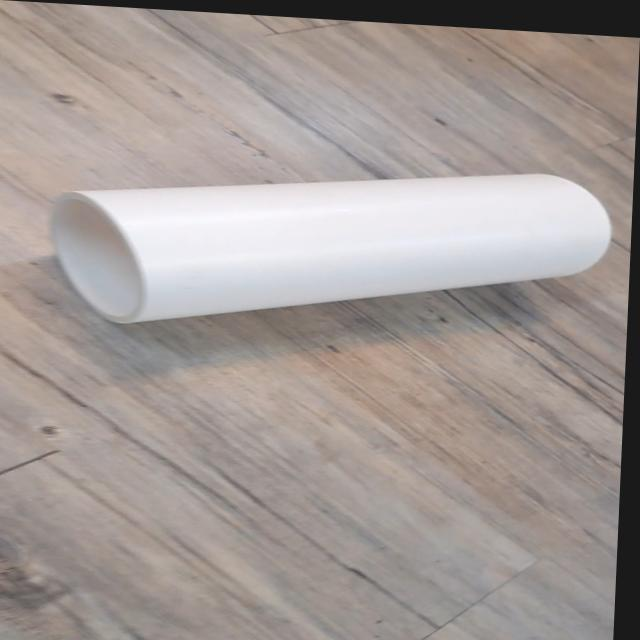CORAL: (28, 128, 631, 365)
